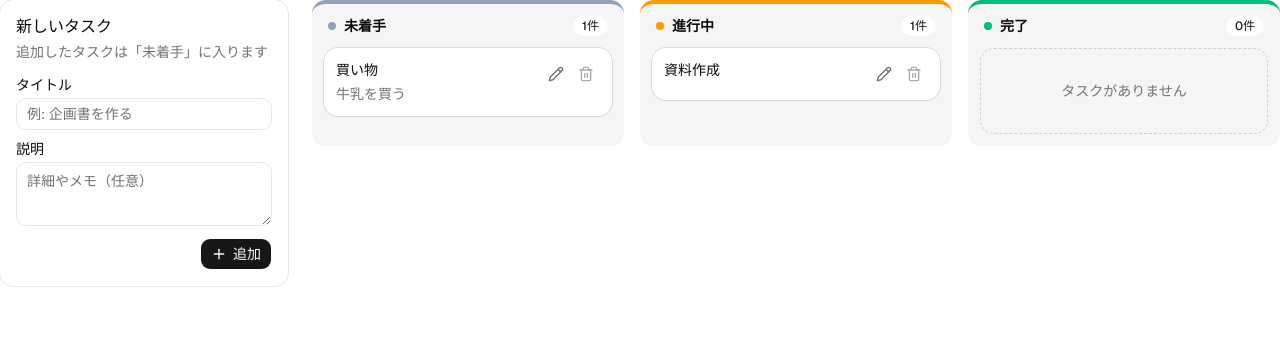
編集 › 編集ボタンで編集フォームが開き、キャンセルで元の表示に戻る
Expected: the heading "買い物" is shown, [336, 61, 378, 79]
Click the button named "「買い物」を編集": click(556, 74) [542, 60, 570, 88]
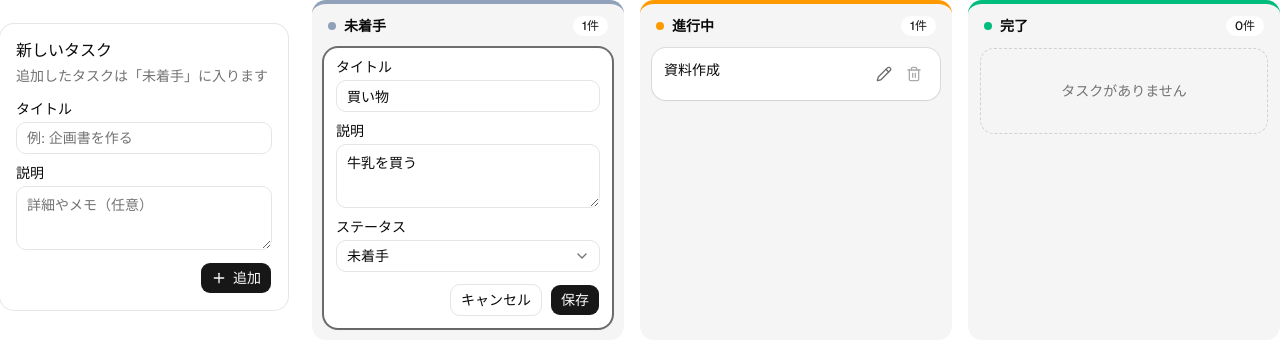
Expected: the field labelled "タイトル" in the row of "タスクがありません" holds "買い物", [336, 80, 600, 112]
Click the button "キャンセル": click(496, 300) [450, 284, 542, 316]
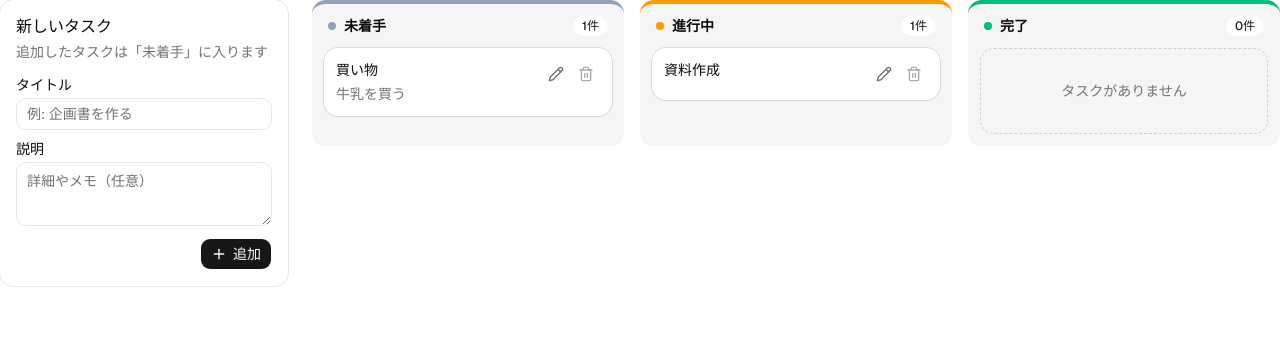
Expected: the form "タスクを編集" is gone
Expected: the heading "買い物" is shown, [336, 61, 378, 79]
